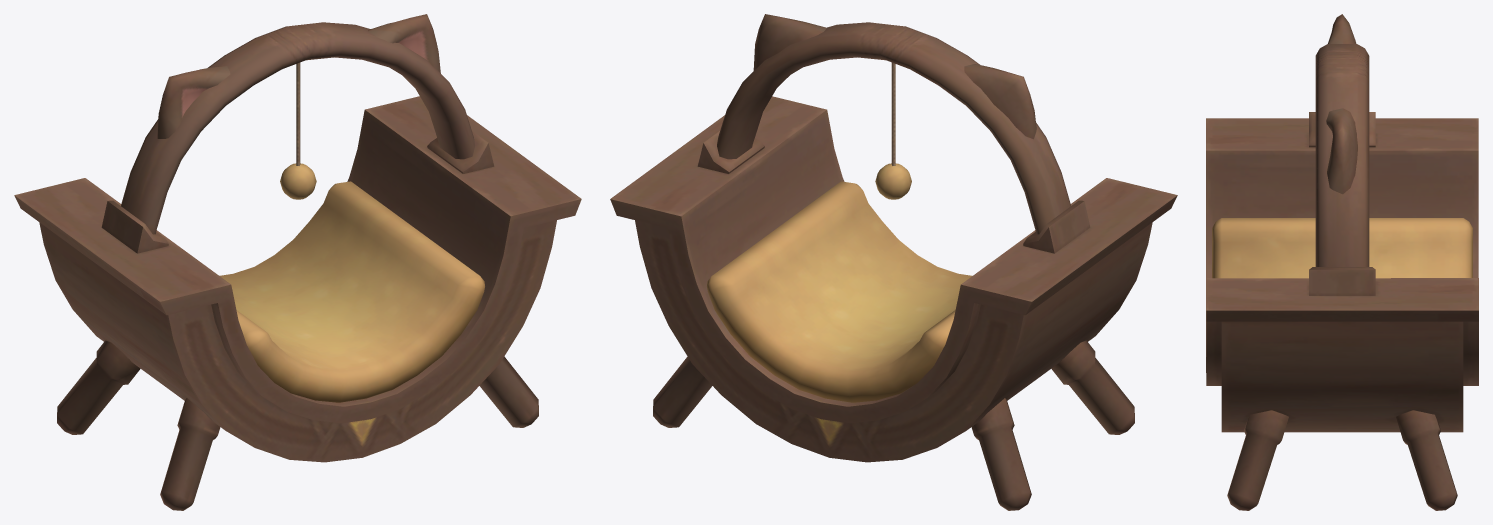
The model's file is Homeworld_Interior_Md_Decoration_Prop_Catnest_01_Vo.fbx.
The picture shows the model from 3 angles, left to right: view 1: azimuth 30°, elevation 25°; view 2: azimuth 150°, elevation 25°; view 3: azimuth 270°, elevation 25°; orthographic projection. The views are drawn at different scales.
Visible parts, largest first — view 1: Indoor_Md_Prop_Catnest_01_Vo; view 2: Indoor_Md_Prop_Catnest_01_Vo; view 3: Indoor_Md_Prop_Catnest_01_Vo.
Part boxes in pixels (box(x1,y1,x2,y2)): Indoor_Md_Prop_Catnest_01_Vo: box(14, 14, 581, 510); Indoor_Md_Prop_Catnest_01_Vo: box(610, 14, 1177, 510); Indoor_Md_Prop_Catnest_01_Vo: box(1206, 14, 1478, 510).
Size of the model in its own units: 1.27 by 1.15 by 0.7642.
1 material, 1 textured.
